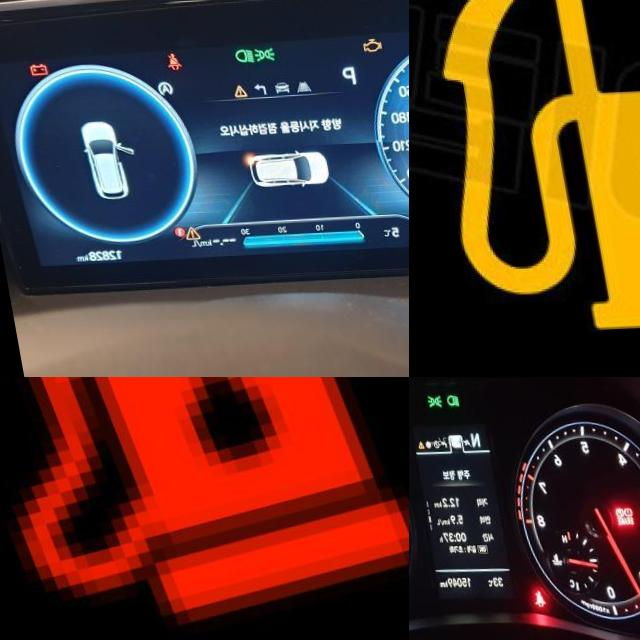Central Warning lamp: (225, 85, 242, 100)
LaneCenteringOff: (288, 83, 305, 96)
Low beam: (228, 49, 249, 67), (439, 397, 453, 410)
Low fuel level: (0, 377, 409, 640), (409, 0, 640, 336)
SideLamp: (248, 48, 271, 65), (419, 397, 436, 411)
